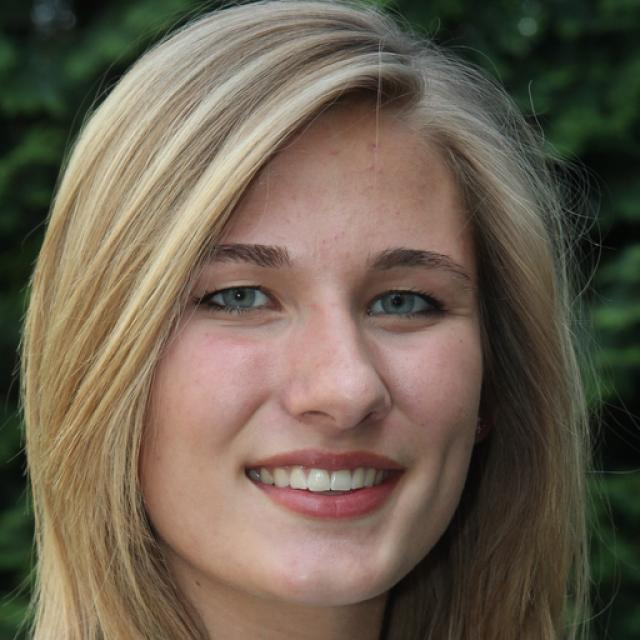Acne: (358, 159, 380, 174), (330, 225, 348, 241)
